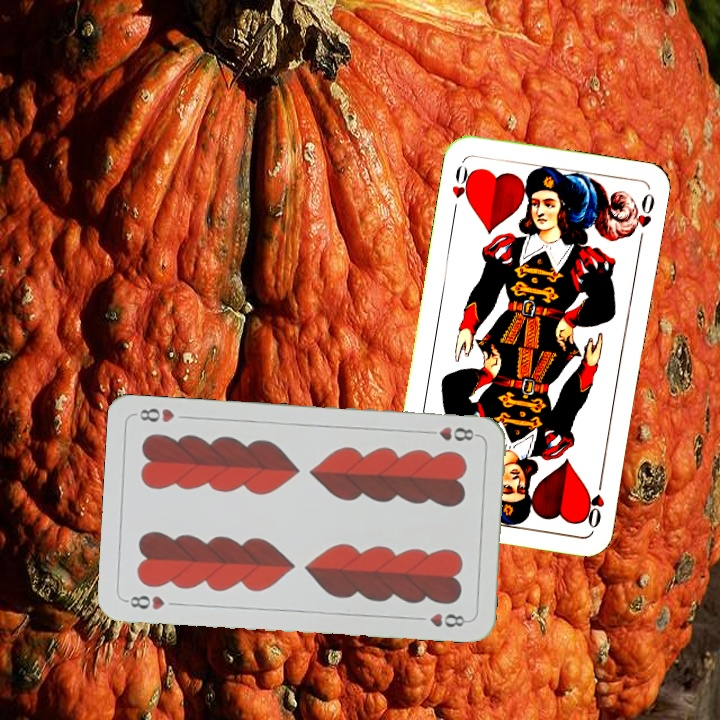H8: (422, 423, 481, 444), (121, 591, 167, 612)
HO: (447, 161, 476, 216), (580, 473, 607, 531)
